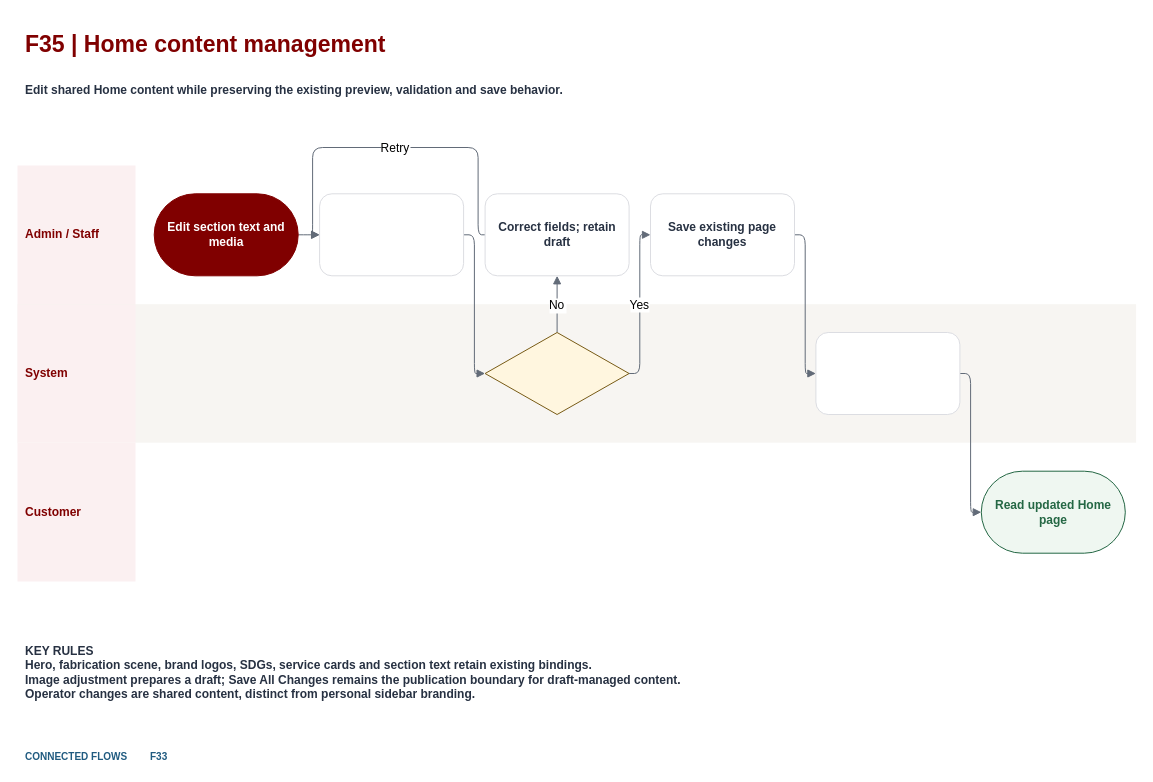
This 1153x782 diagram has some shape labels left out. The shapes that lost their labels are listed below. From the top down, each one's centre as x and y in pixels, then its label:
(391,234): Adjust images; review preview
(556,373): Content valid?
(887,373): Persist and publish shared content
